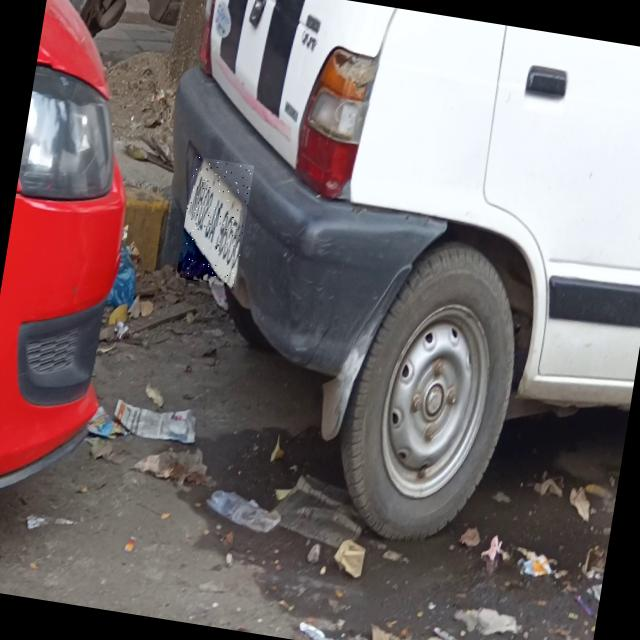Plate: (177, 158, 255, 289)
